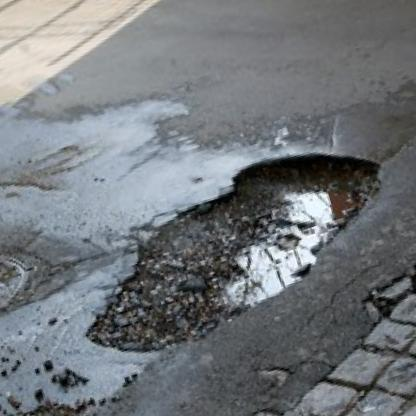pothole: (52, 128, 414, 369)
